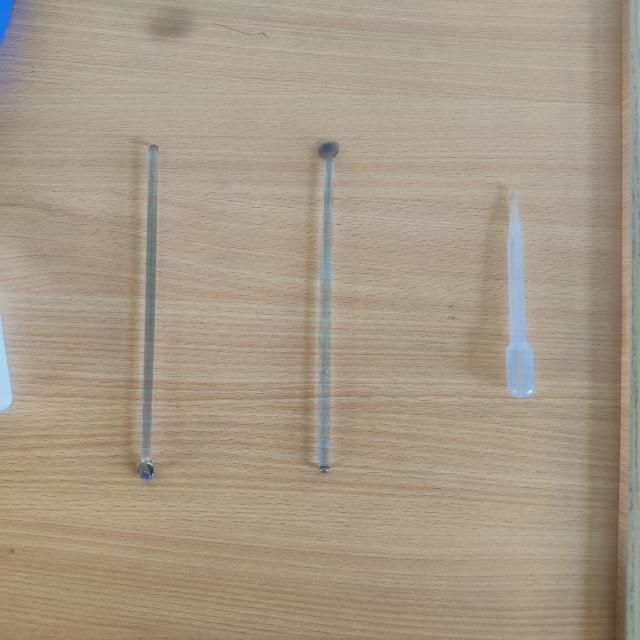Glass_Rod: (272, 125, 394, 499), (98, 109, 204, 513)
Pipette: (448, 178, 586, 437)
